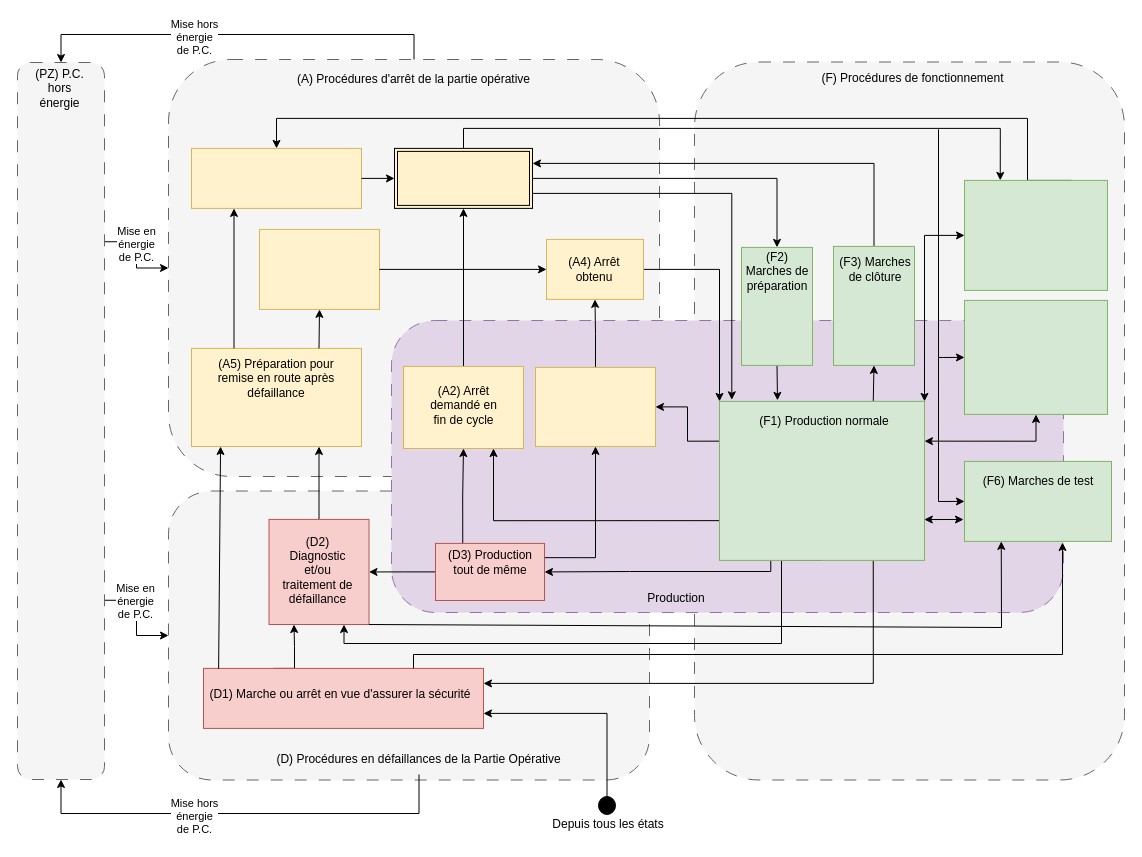
The diagram is 1142 pixels wide and 857 high, and some of its shapes have lost their labels. The shapes that lost their labels are listed below. From the top down, each one's centre as x and y in pixels, then its label:
At (276,177): "(A6) Mise P.O dans état initial".
At (463,177): "(A1) Arrêt dans état initial".
At (1036,234): "(F4) Marches de vérification dans le désordre".
At (319,268): "(A7) Mise P.O. dans état déterminé".
At (1036,356): "(F5) Marches de vérification dans l'ordre".
At (595,406): "(A3) Arrêt demandé dans état déterminé".
